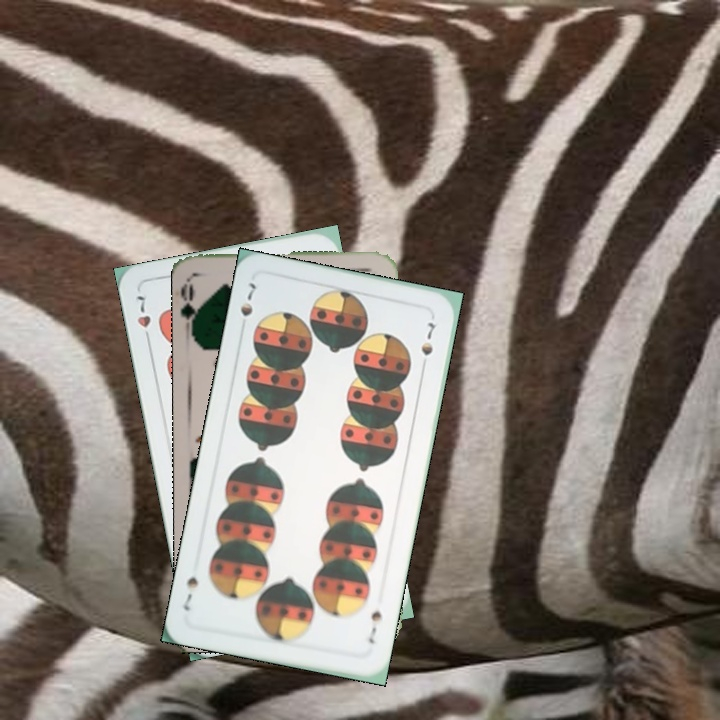GO: (179, 277, 206, 336)
H7: (132, 291, 153, 347)
S7: (236, 279, 260, 319), (364, 607, 385, 646)
